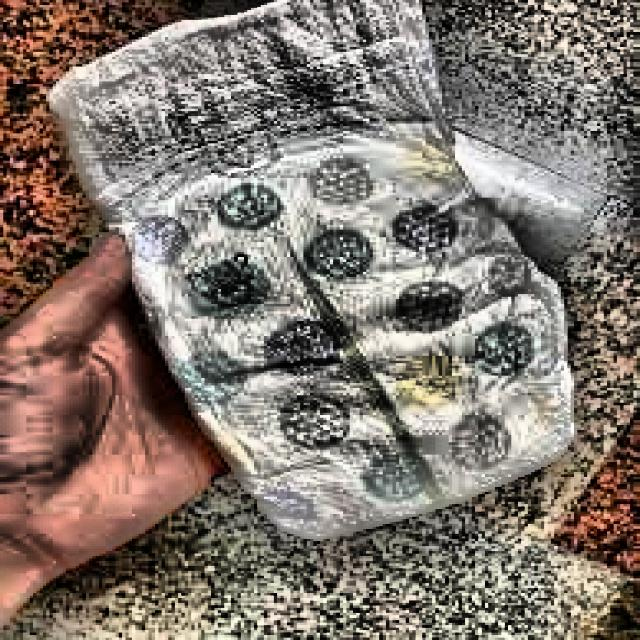trash: (42, 0, 574, 537)
